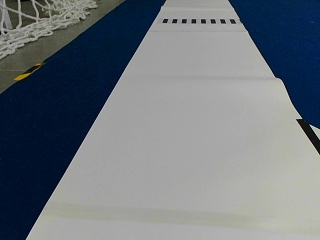crosswalk: (163, 17, 235, 24)
